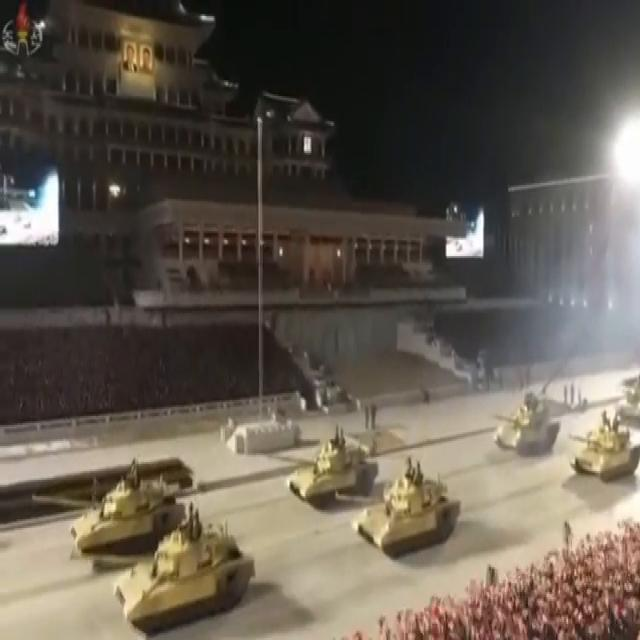north tank: (107, 503, 257, 633), (24, 456, 188, 559), (351, 463, 477, 574), (267, 403, 383, 509), (482, 399, 569, 475), (571, 406, 640, 500)
